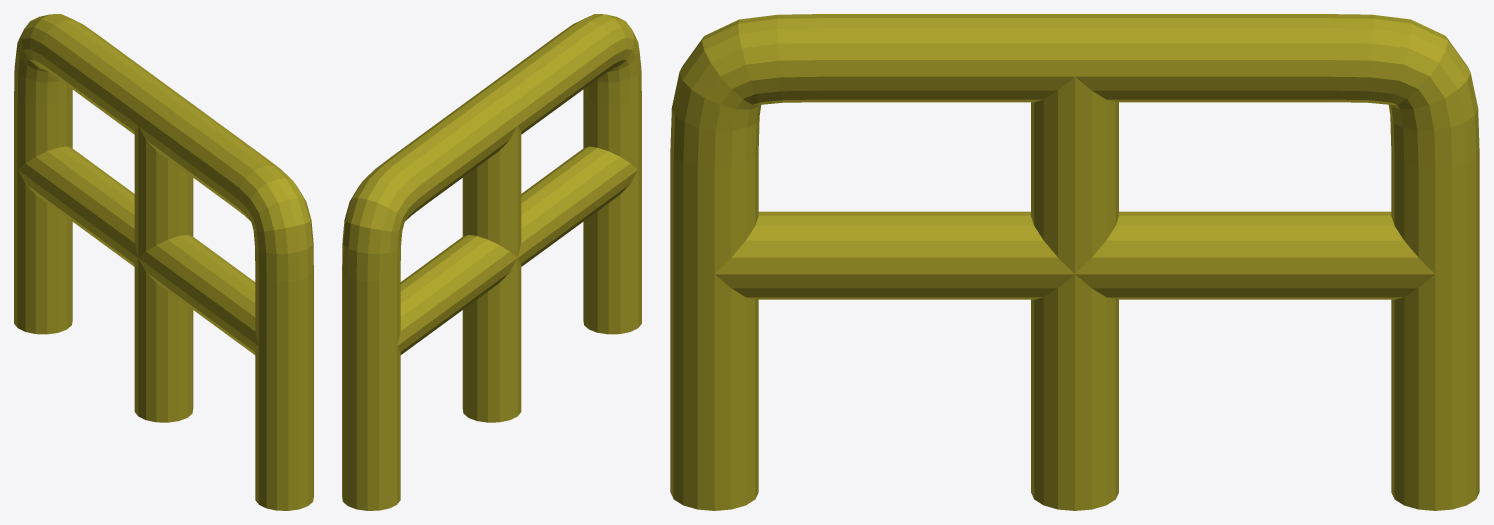
File: metal_barrier.fbx
3 views of the same model, side by side, from view 1: azimuth 30°, elevation 25°; view 2: azimuth 150°, elevation 25°; view 3: azimuth 270°, elevation 25° (orthographic). The views are drawn at different scales.
Parts seen in each view (by area): view 1: Circle.001; view 2: Circle.001; view 3: Circle.001.
Part boxes in pixels (x1,y1,x2,y2): Circle.001: [14, 14, 313, 510]; Circle.001: [342, 14, 641, 510]; Circle.001: [670, 14, 1479, 510].
Bounding box in the file's own units: 20.73 × 123 × 190.
